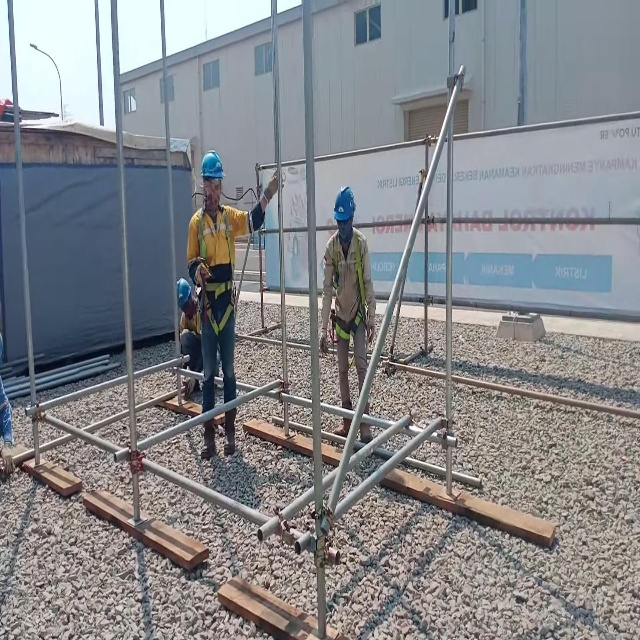Arnes_seguridad: (197, 201, 238, 338), (330, 224, 369, 343)
